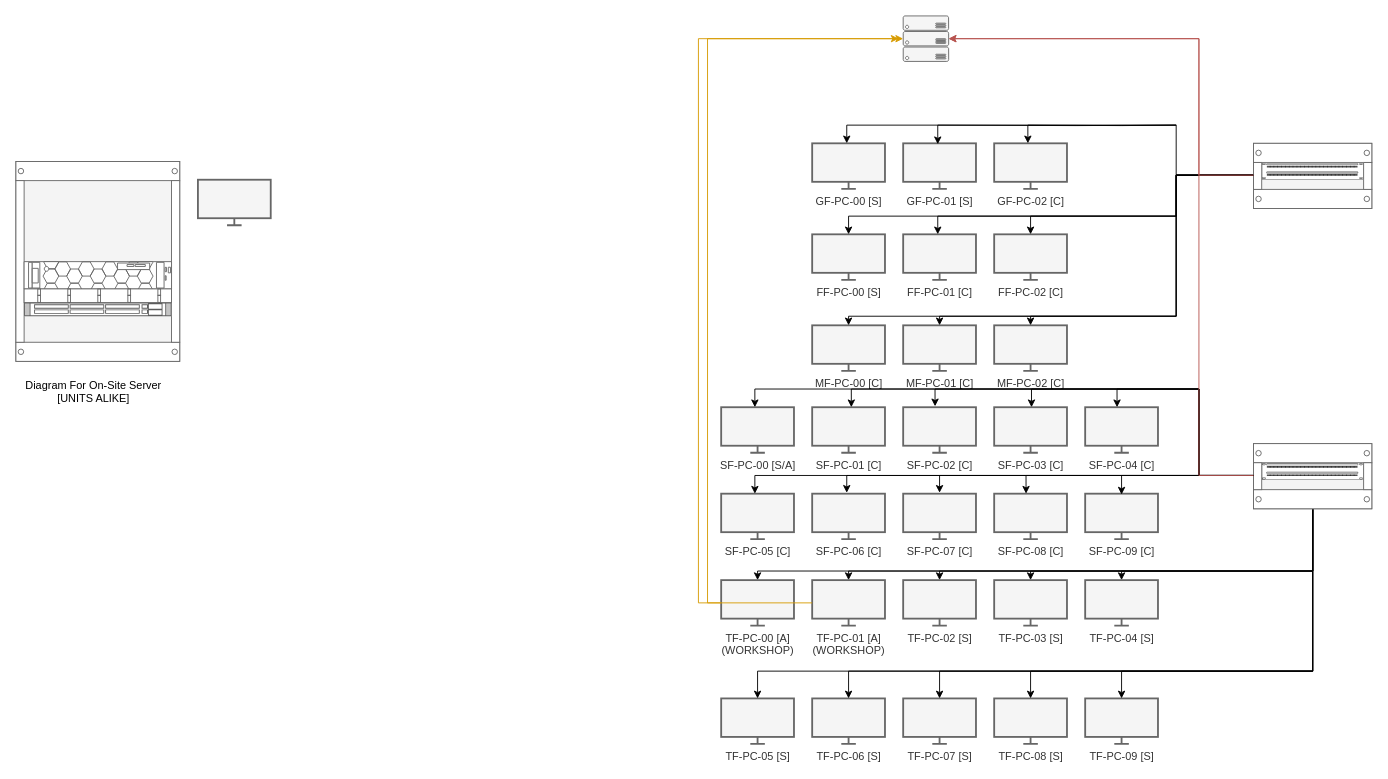
This 1388x779 diagram has some shape labels left out. The centre of each missing label's shape, as x and y in pixels:
"Cisco 1962 Switch" belongs at (x=97, y=309).
"DELL PowerEdge R960" belongs at (x=97, y=275).
"On-Site Serve r [GOS]" belongs at (x=925, y=38).
"Terminal PC" belongs at (x=234, y=202).
